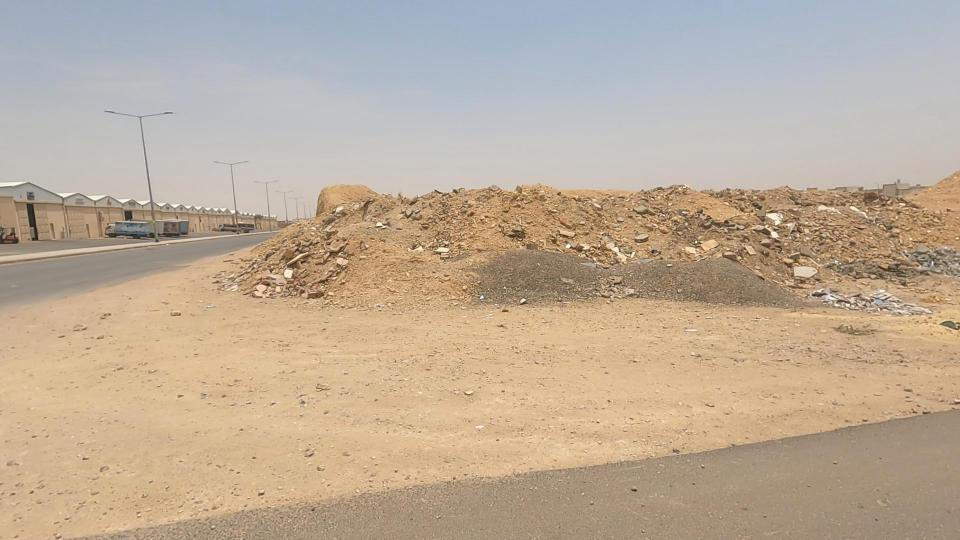GARBAGE: (773, 246, 940, 339), (196, 250, 361, 325), (860, 214, 960, 311)
